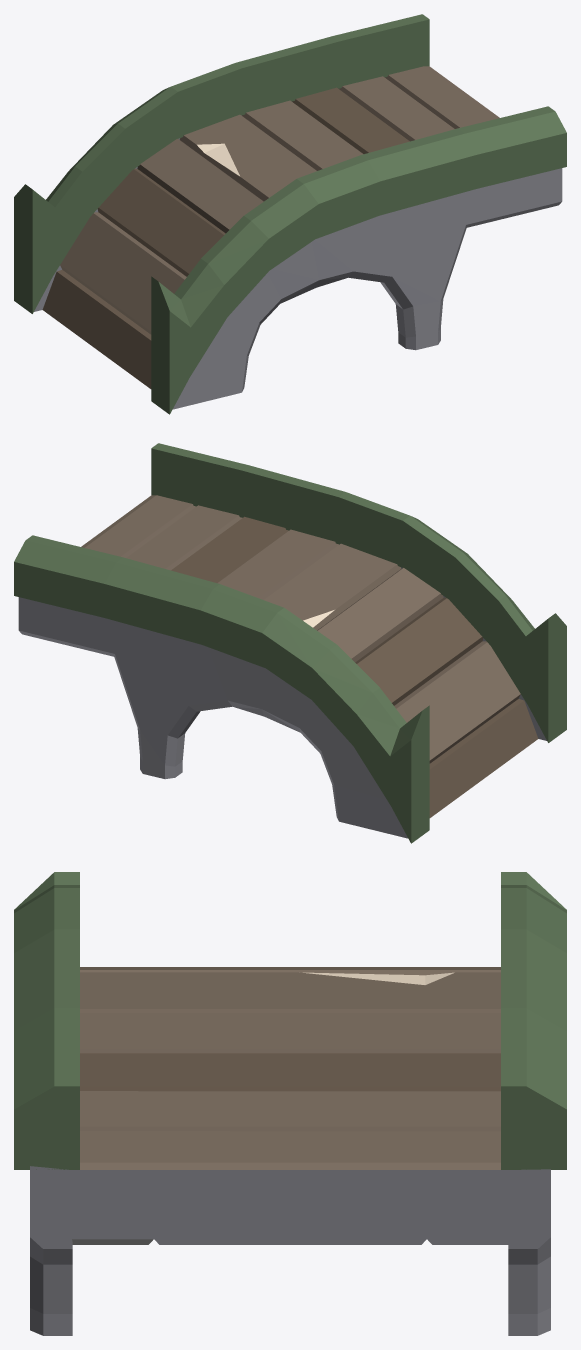
Rendered from _bridge_edge.fbx.
3 renders of one model, top to bottom at view 1: azimuth 30°, elevation 25°; view 2: azimuth 150°, elevation 25°; view 3: azimuth 270°, elevation 25°, orthographic. The views are drawn at different scales.
Visible parts, largest first — view 1: beidge_edge; view 2: beidge_edge; view 3: beidge_edge.
Boxes of the visible parts, x1,y1,x2,y2 form: beidge_edge: (14,14,566,414); beidge_edge: (14,443,566,843); beidge_edge: (14,872,566,1335).
Size of the model in its own units: 762 by 363 by 517.
